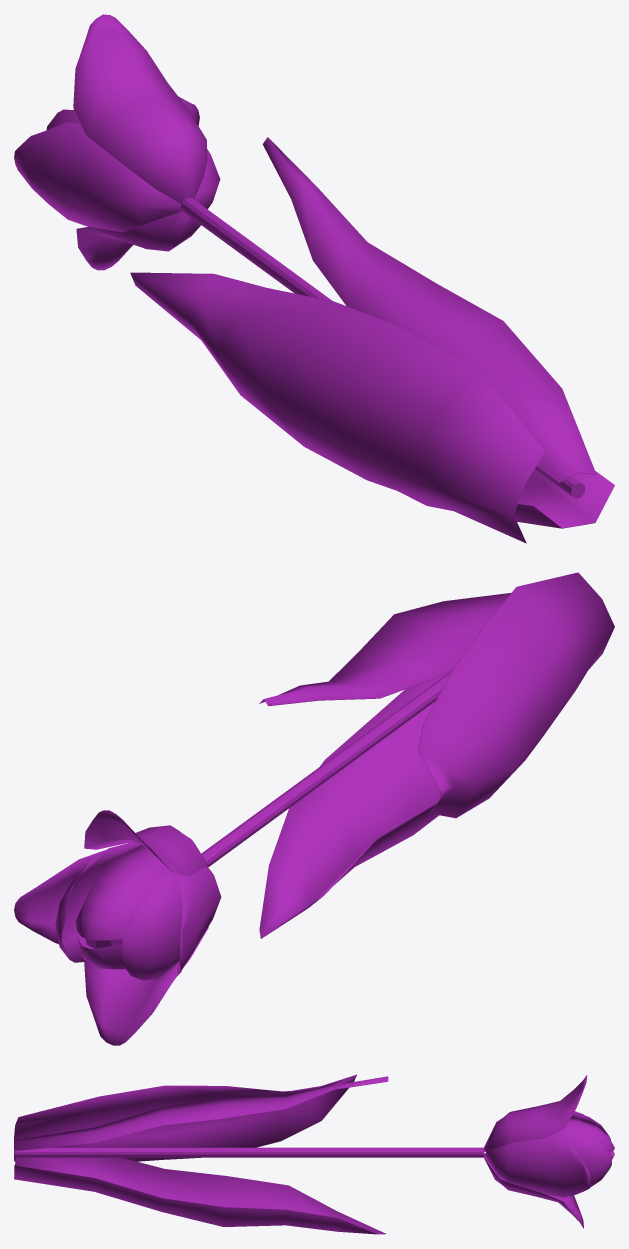
The model's file is Tulip_one_material.fbx.
3 renders of one model, top to bottom at view 1: azimuth 30°, elevation 25°; view 2: azimuth 150°, elevation 25°; view 3: azimuth 270°, elevation 25°, orthographic. The views are drawn at different scales.
Parts seen in each view (by area): view 1: Tulip; view 2: Tulip; view 3: Tulip.
Boxes of the visible parts, box(x1,y1,x2,y2) form: Tulip: box(14, 14, 614, 543); Tulip: box(14, 572, 614, 1045); Tulip: box(14, 1074, 614, 1234).
Size of the model in its own units: 29.48 by 27.95 by 96.78.
